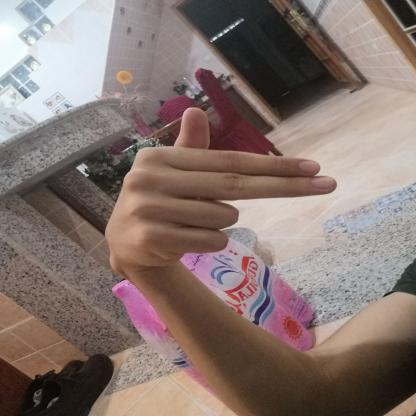GHAYN: (92, 98, 360, 277)
